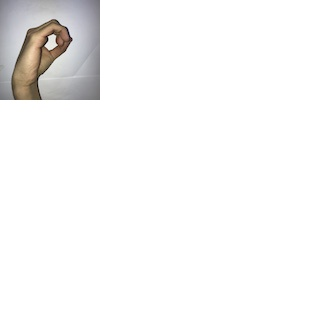rock: (9, 11, 73, 90)
